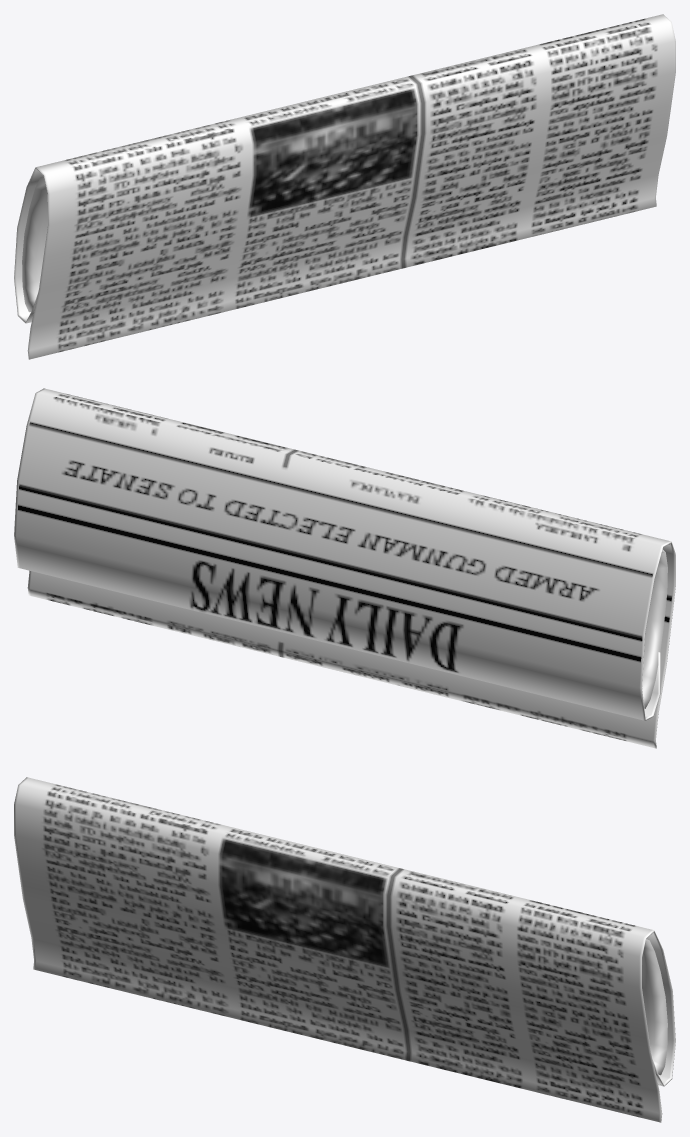
The model's file is MeshCylinder_039_0.obj.
3 renders of one model, top to bottom at view 1: azimuth 30°, elevation 25°; view 2: azimuth 150°, elevation 25°; view 3: azimuth 330°, elevation 25°, orthographic.
Parts seen in each view (by area): view 1: Cylinder_039; view 2: Cylinder_039; view 3: Cylinder_039.
Boxes of the visible parts, box(x1,y1,x2,y2) form: Cylinder_039: box(14, 14, 675, 359); Cylinder_039: box(14, 388, 675, 748); Cylinder_039: box(14, 777, 675, 1122).
Bounding box in the file's own units: 2.36 × 0.7087 × 0.2229.
Materials: 1 (1 with a texture image).
